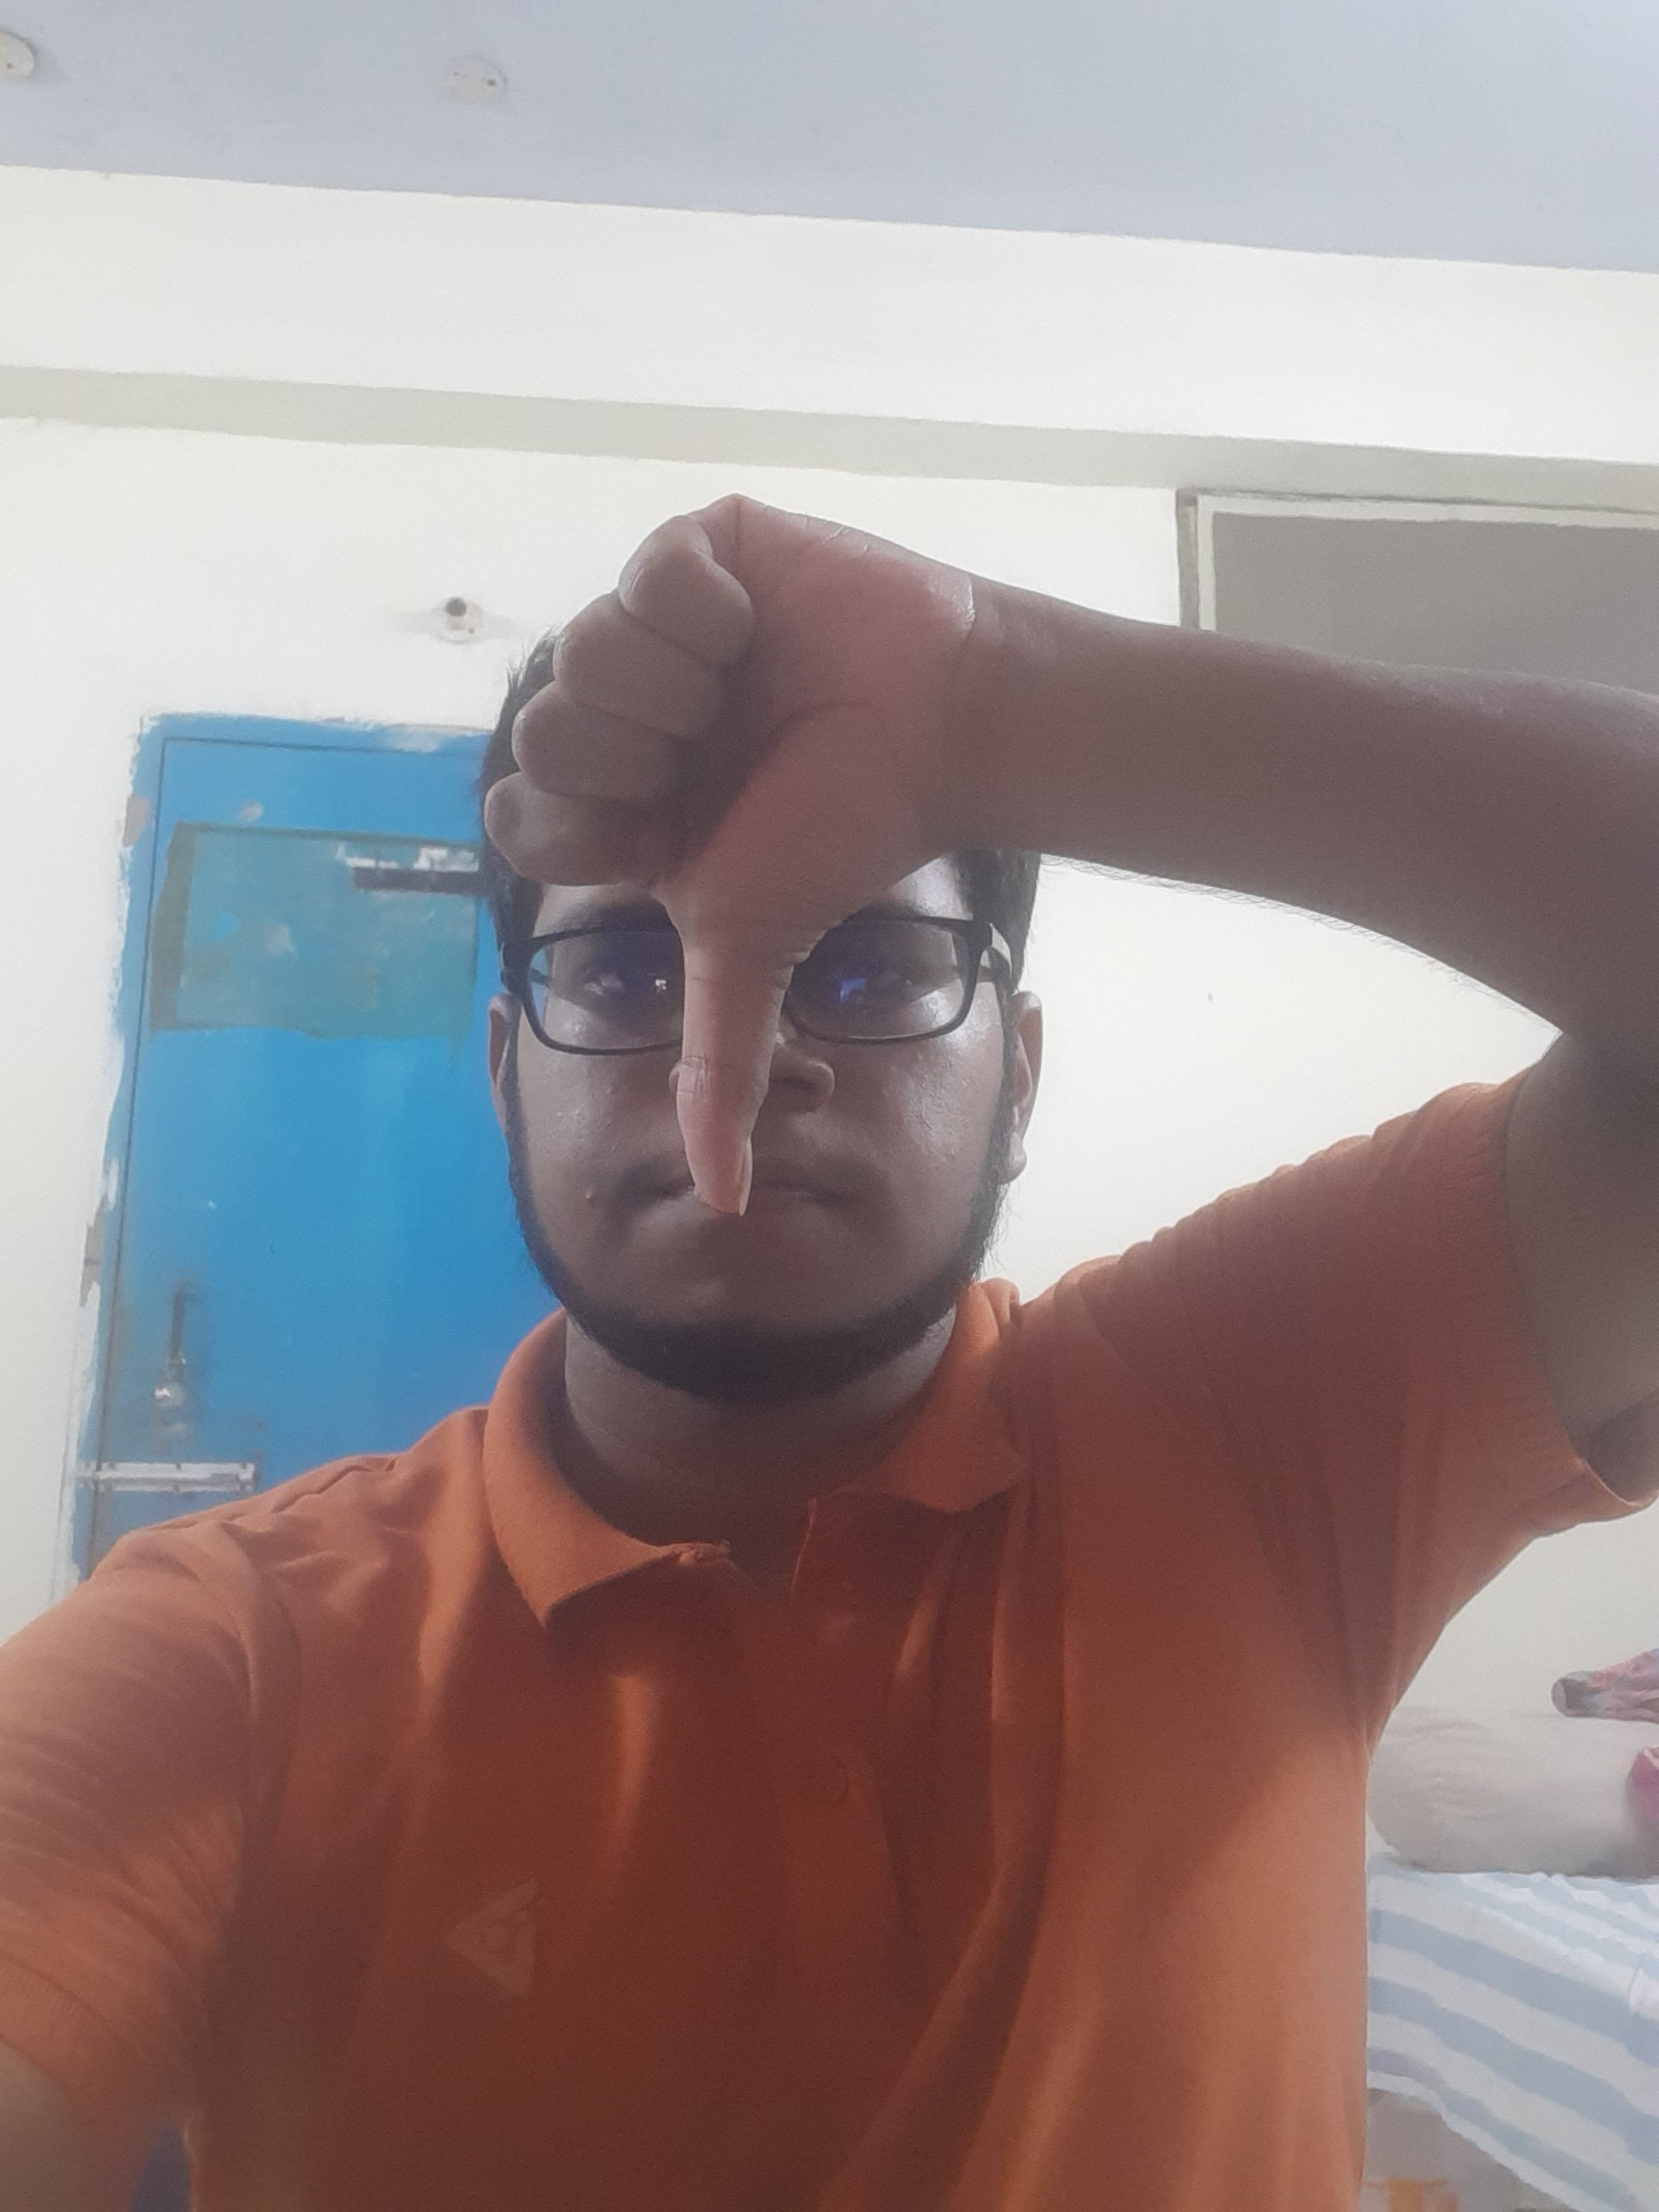td5: (484, 486, 974, 1216)
